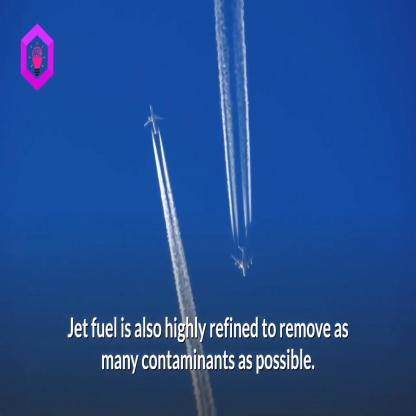plane: (228, 237, 257, 284), (142, 98, 166, 138)
